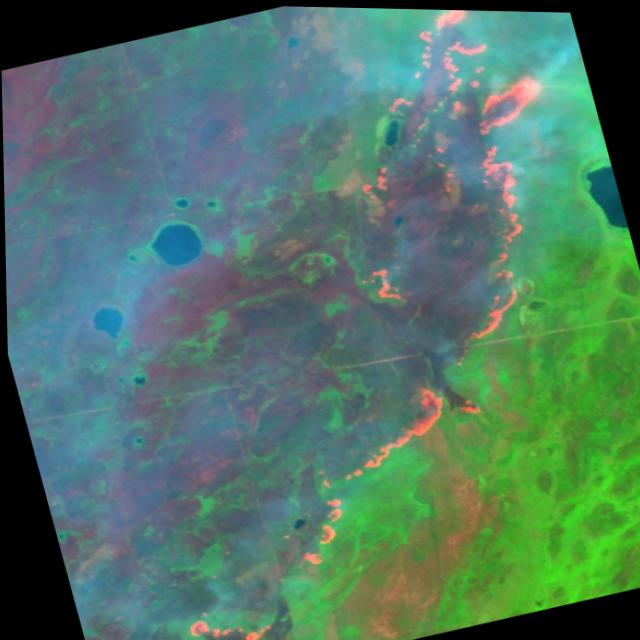fire: (278, 5, 609, 376), (247, 354, 534, 579), (163, 585, 295, 640)
